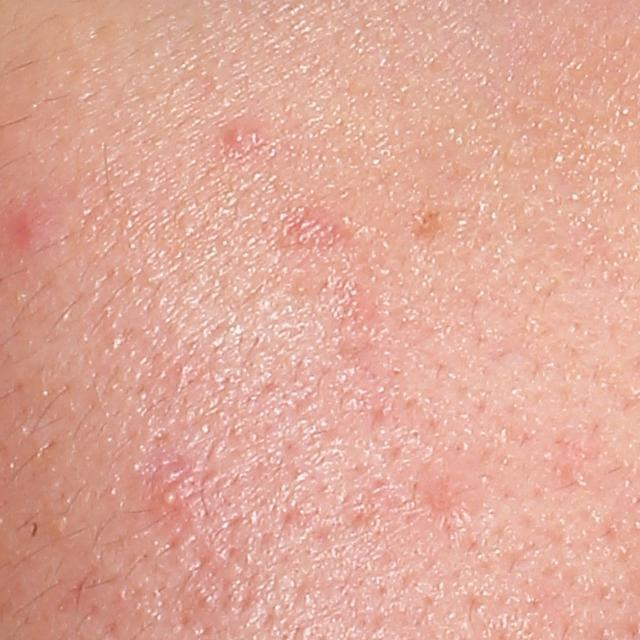papule: (220, 121, 256, 153)
pustule: (160, 481, 183, 513)
